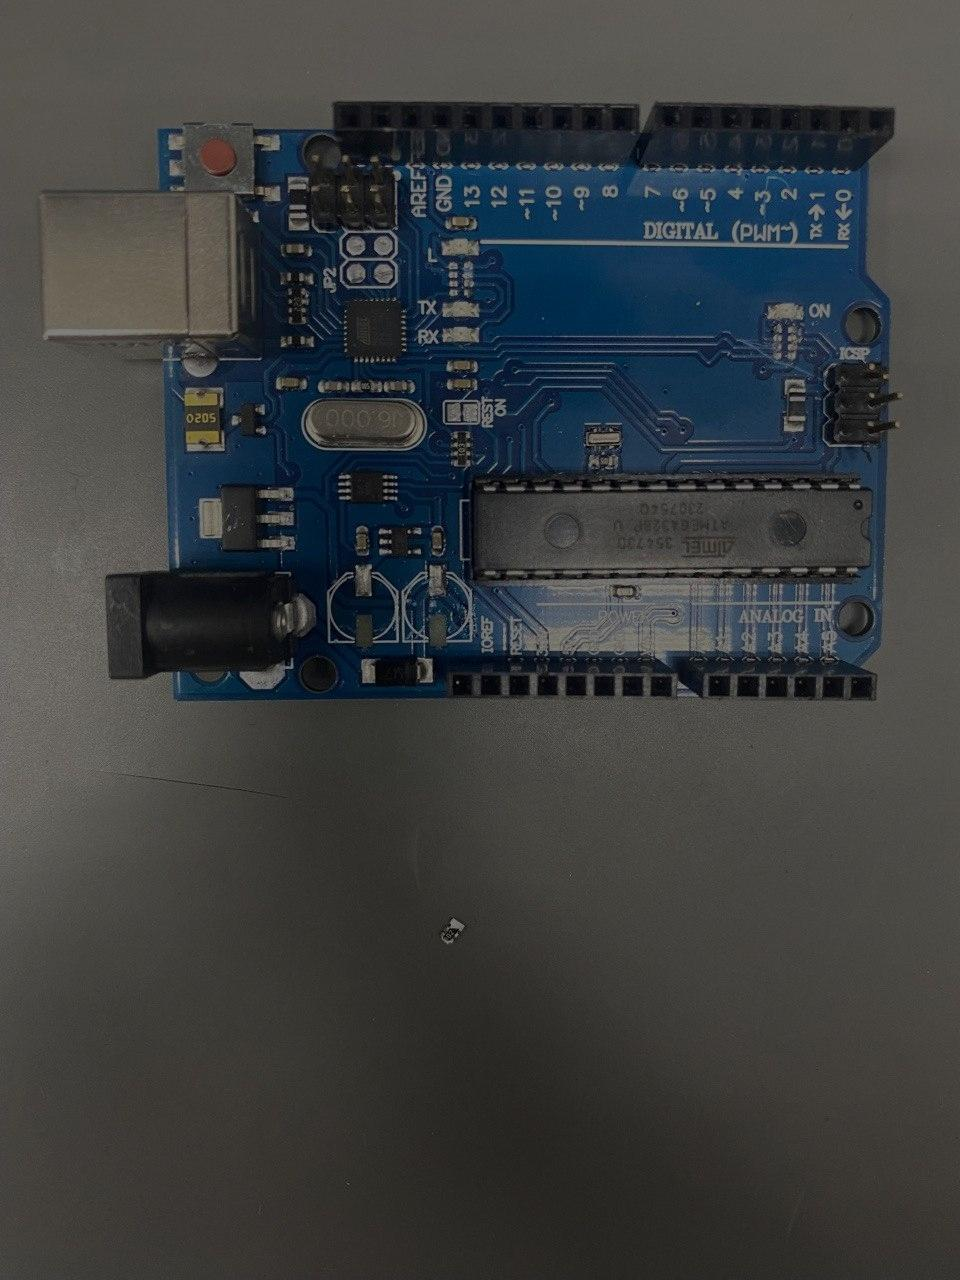ATmega328 chip: (472, 474, 874, 588)
Arduino board: (39, 100, 904, 703)
USB: (38, 190, 262, 360)
pins: (331, 99, 642, 167), (635, 100, 896, 175), (449, 657, 677, 699), (679, 657, 878, 703)
resistor: (452, 431, 473, 467), (289, 287, 308, 326)
